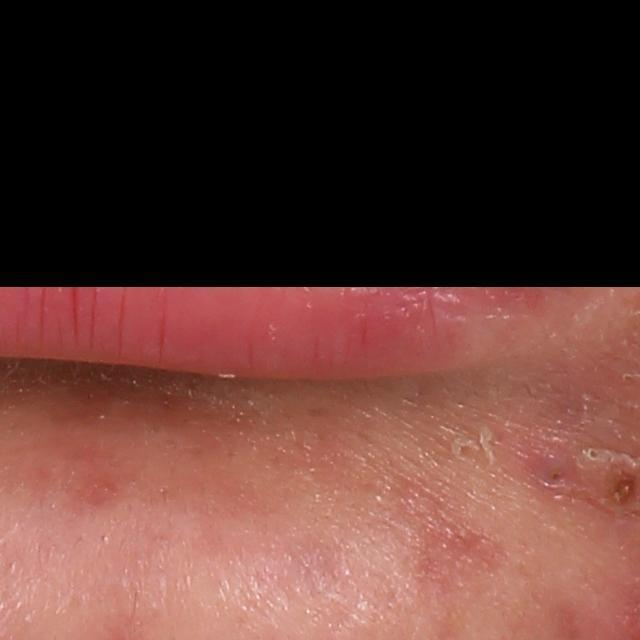comedo: (583, 442, 605, 464)
